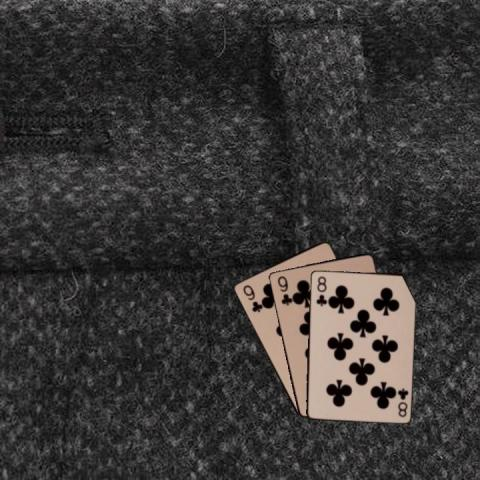8c: (313, 274, 327, 308), (395, 385, 409, 418)
9c: (239, 282, 262, 314), (274, 272, 291, 306)
